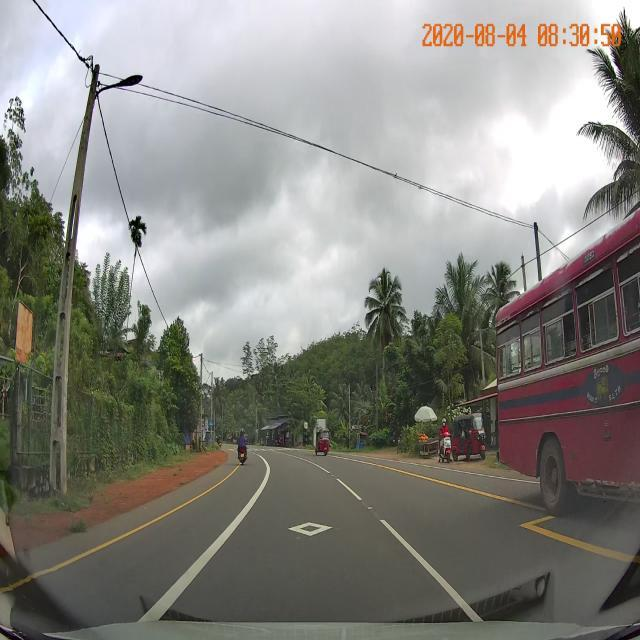diamond: (187, 498, 439, 565)
